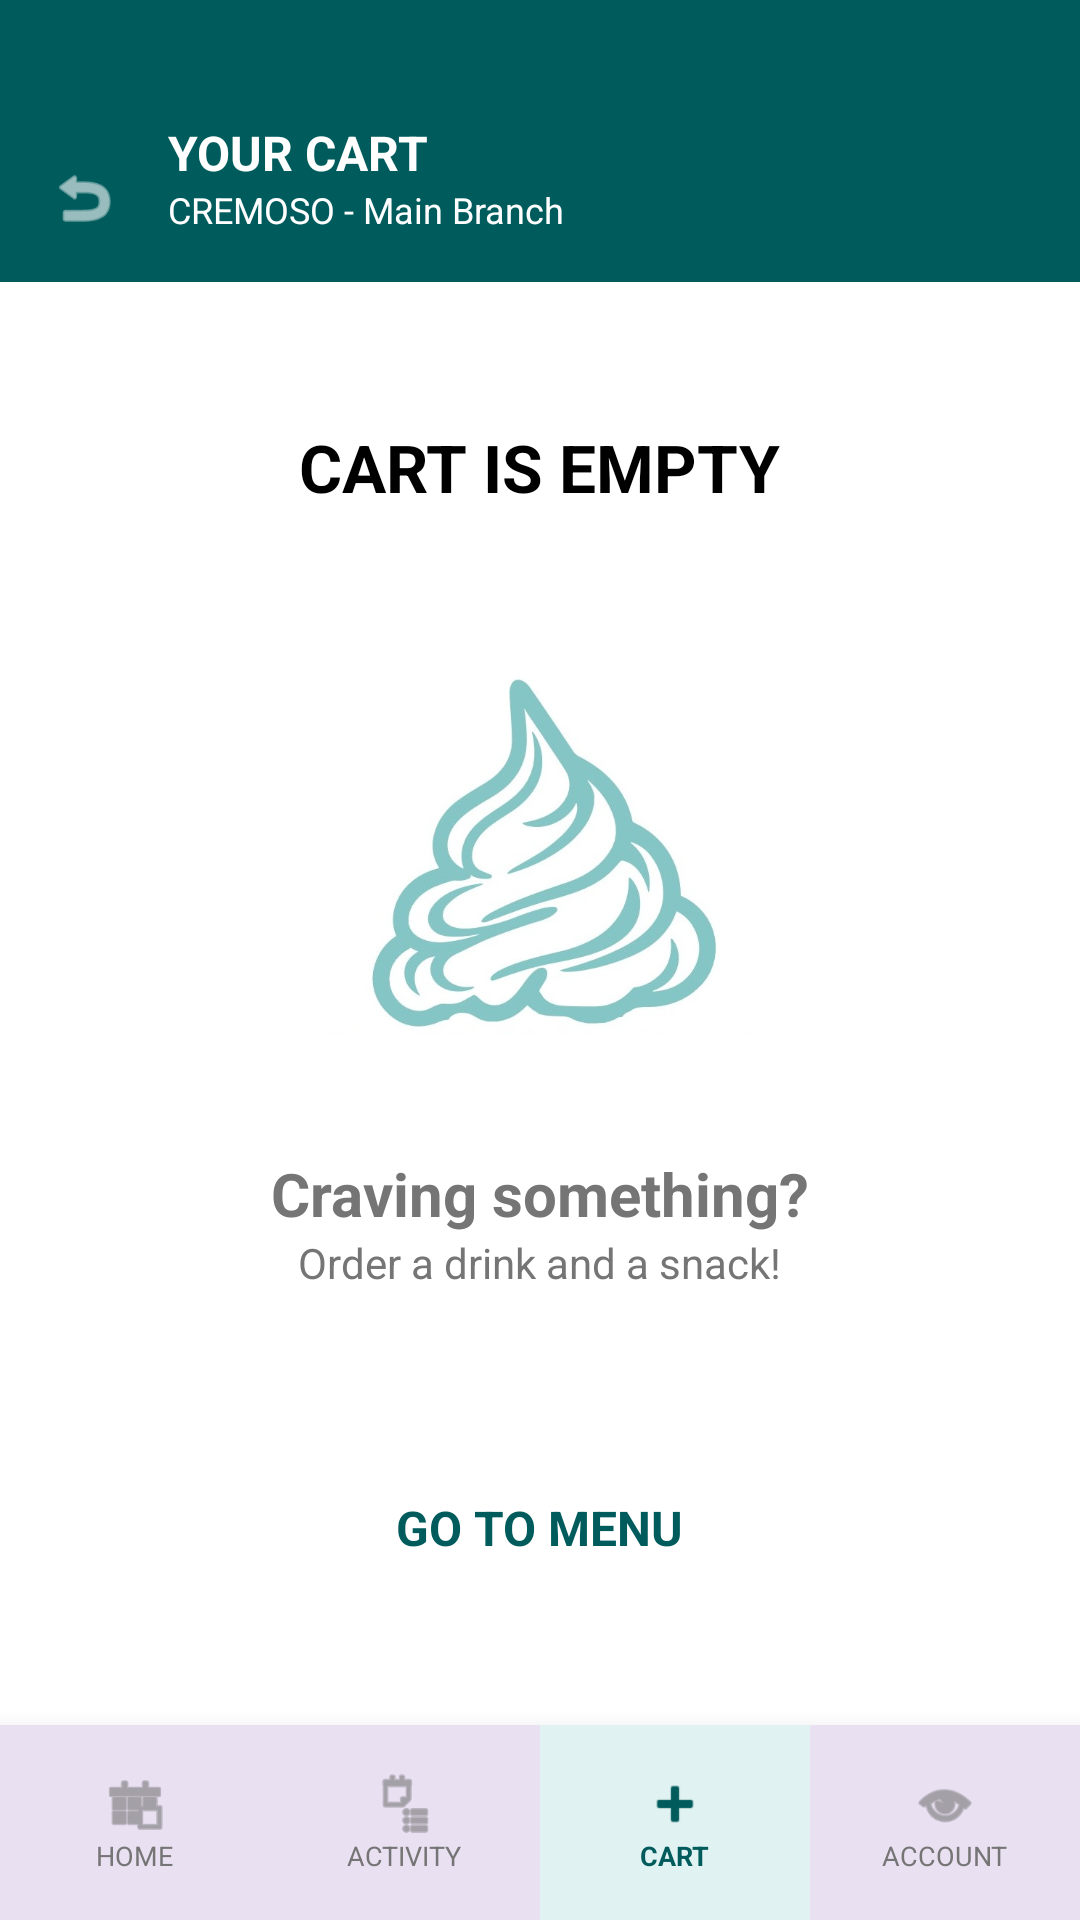

Icons on this 1080*1920 Android screen, each with its box as (x1, y1, x2, y2):
add: (656, 1785, 694, 1823)
agenda: (382, 1774, 428, 1833)
revert: (59, 175, 111, 222)
today: (109, 1780, 163, 1830)
view: (918, 1789, 972, 1822)
